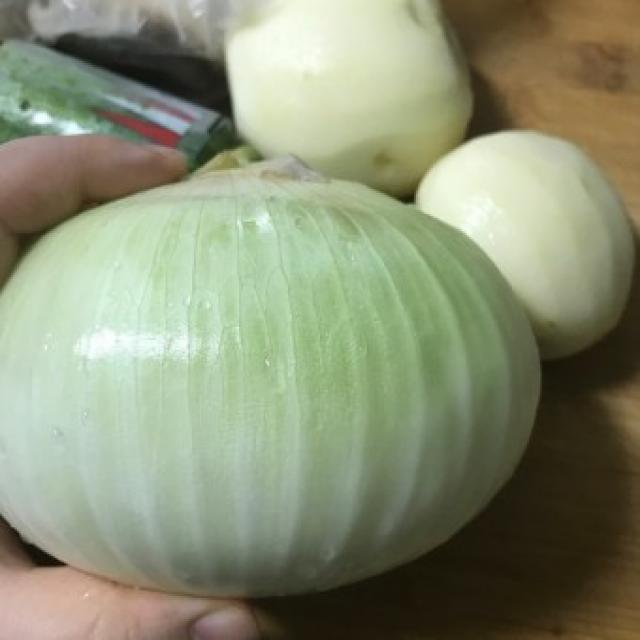onion: (4, 148, 537, 595)
